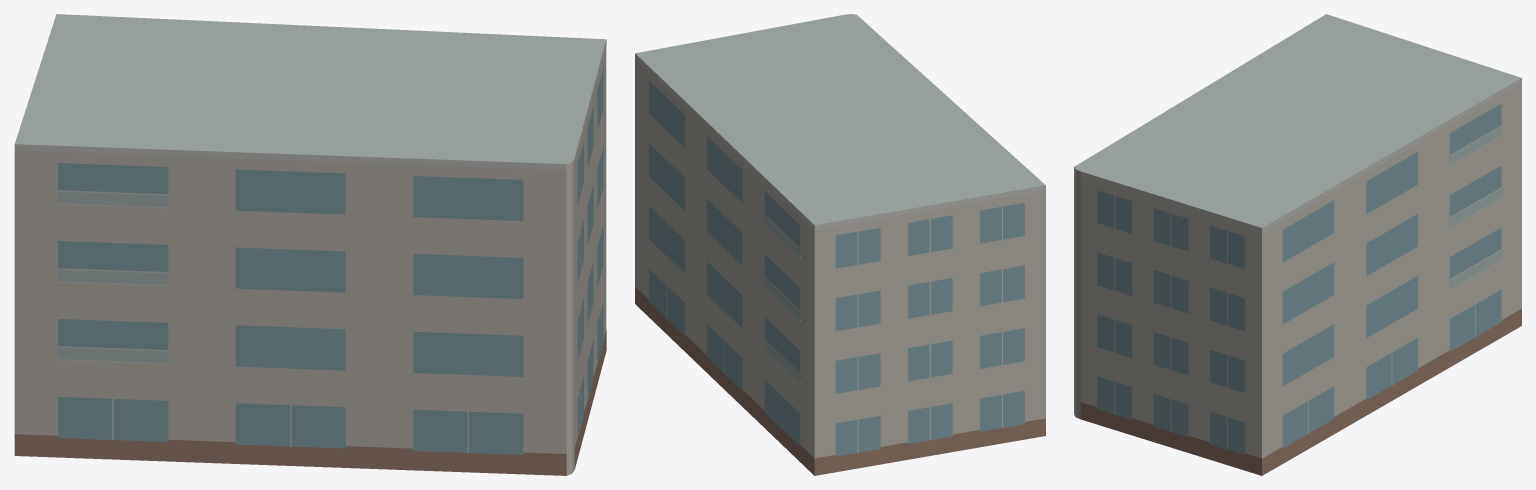
File: survey-upis-32775795.glb
3 renders of one model, left to right at view 1: azimuth 30°, elevation 25°; view 2: azimuth 150°, elevation 25°; view 3: azimuth 270°, elevation 25°, orthographic. The views are drawn at different scales.
Parts seen in each view (by area): view 1: survey-upis-32775795.tmp; view 2: survey-upis-32775795.tmp; view 3: survey-upis-32775795.tmp.
Part boxes in pixels (left/top/right/bottom): survey-upis-32775795.tmp: left=14, top=14, right=606, bottom=475; survey-upis-32775795.tmp: left=635, top=14, right=1045, bottom=475; survey-upis-32775795.tmp: left=1074, top=14, right=1521, bottom=475.
Size of the model in its own units: 22.77 by 12.3 by 20.14.
